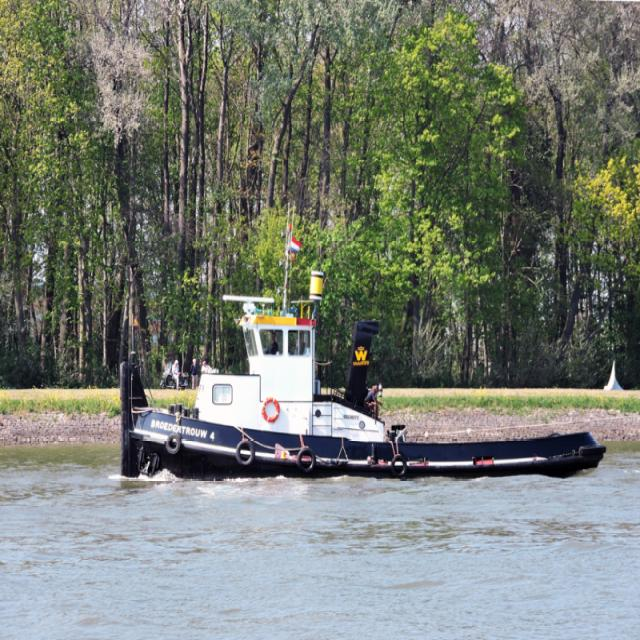tugboat: (119, 264, 612, 488)
